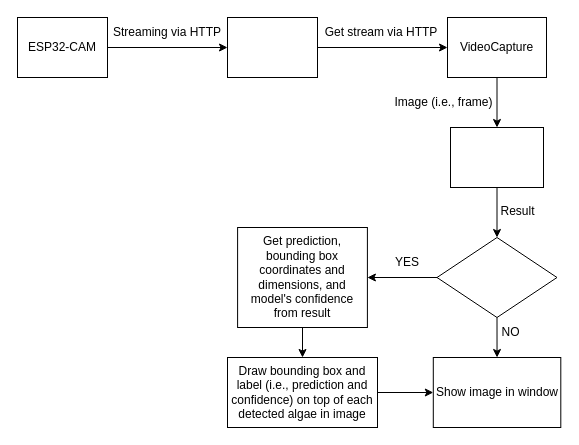
This 579x445 diagram has some shape labels left out. The shapes that lost their labels are listed below. From the top down, each one's centre as x and y in pixels, then its label:
point 272,47: Web Server
point 497,157: Algae detection model
point 496,277: Algae detected?
